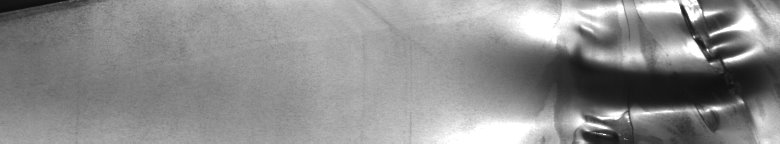ke: (528, 4, 776, 136)
